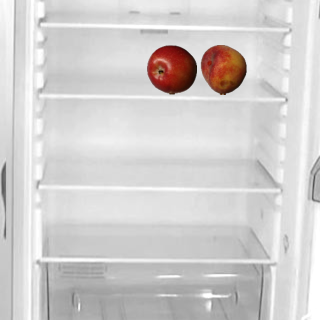Apple Braeburn: (146, 44, 196, 94)
Peach: (198, 44, 248, 94)
